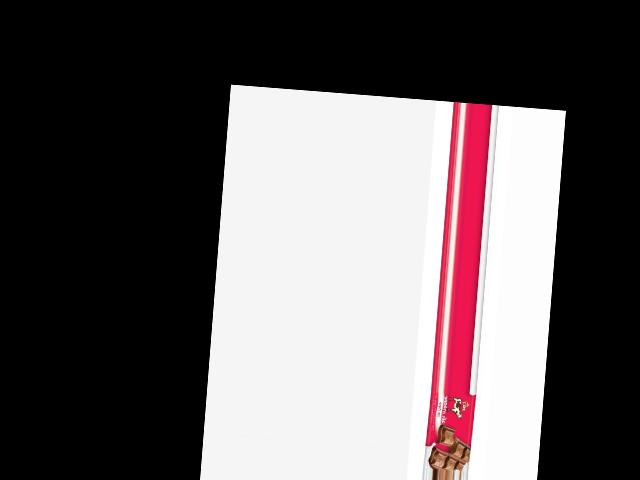chocolate: (424, 390, 475, 470)
